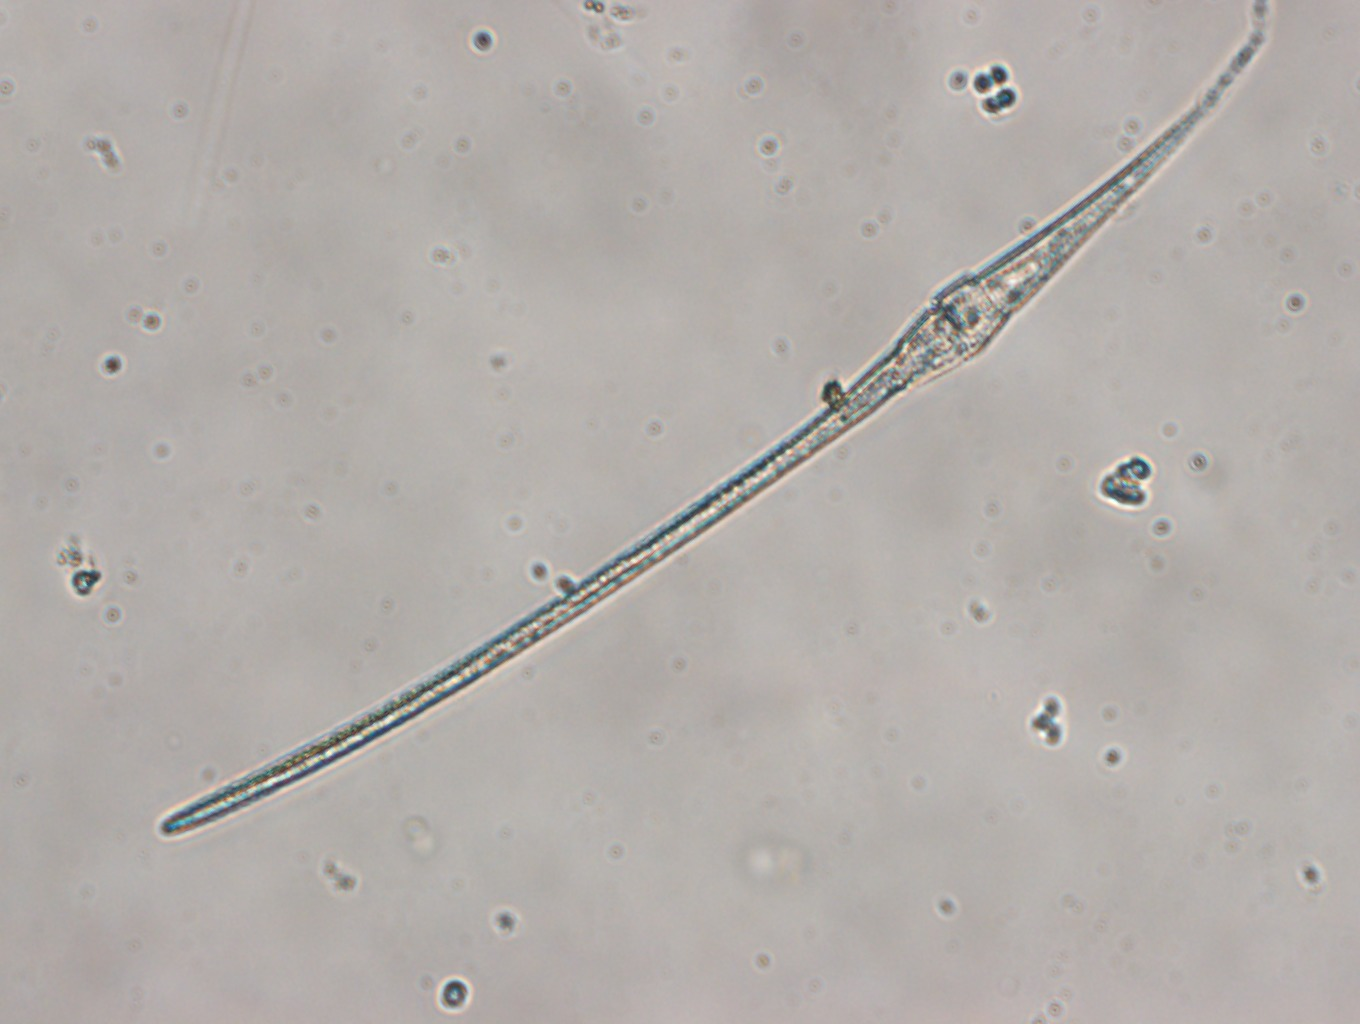ceratium fusus: (154, 37, 1263, 836)
